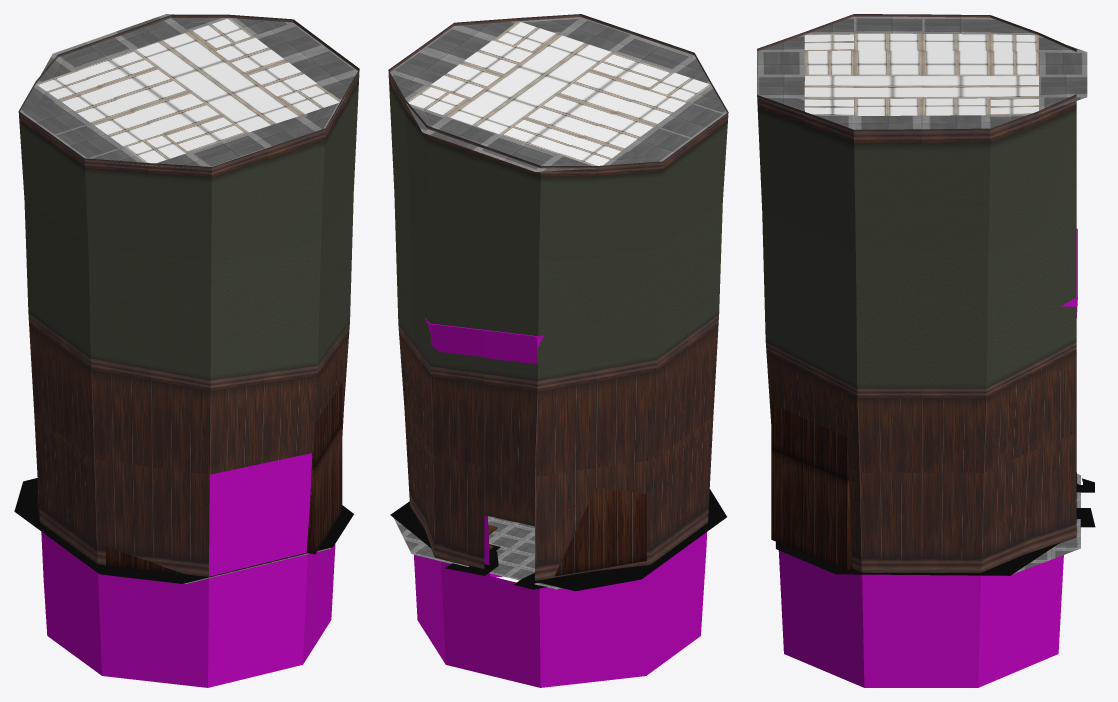
File: office_boss_room.fbx
The picture shows the model from 3 angles, left to right: view 1: azimuth 30°, elevation 25°; view 2: azimuth 150°, elevation 25°; view 3: azimuth 270°, elevation 25°; orthographic projection. The views are drawn at different scales.
Parts seen in each view (by area): view 1: wall (×2), ceiling, Books_1, polySurface5, Books_2; view 2: wall (×2), ceiling, Books_4, polySurface5, platform; view 3: wall (×2), ceiling, Books_1, polySurface5, platform.
Boxes of the visible parts, x1,y1,x2,y2 form: wall (×2): (18, 14, 359, 687); ceiling: (20, 14, 357, 168); Books_1: (306, 382, 342, 554); polySurface5: (14, 478, 353, 583); Books_2: (106, 546, 184, 574); wall (×2): (388, 14, 728, 687); ceiling: (390, 17, 727, 171); Books_4: (554, 488, 646, 576); polySurface5: (390, 489, 726, 591); platform: (394, 516, 562, 589); wall (×2): (757, 14, 1077, 687); ceiling: (757, 16, 1087, 129); Books_1: (771, 404, 852, 570); polySurface5: (776, 472, 1095, 575); platform: (775, 474, 1080, 573).
Size of what is drawn, in the model's own units: 72.2 by 138 by 76.02.
